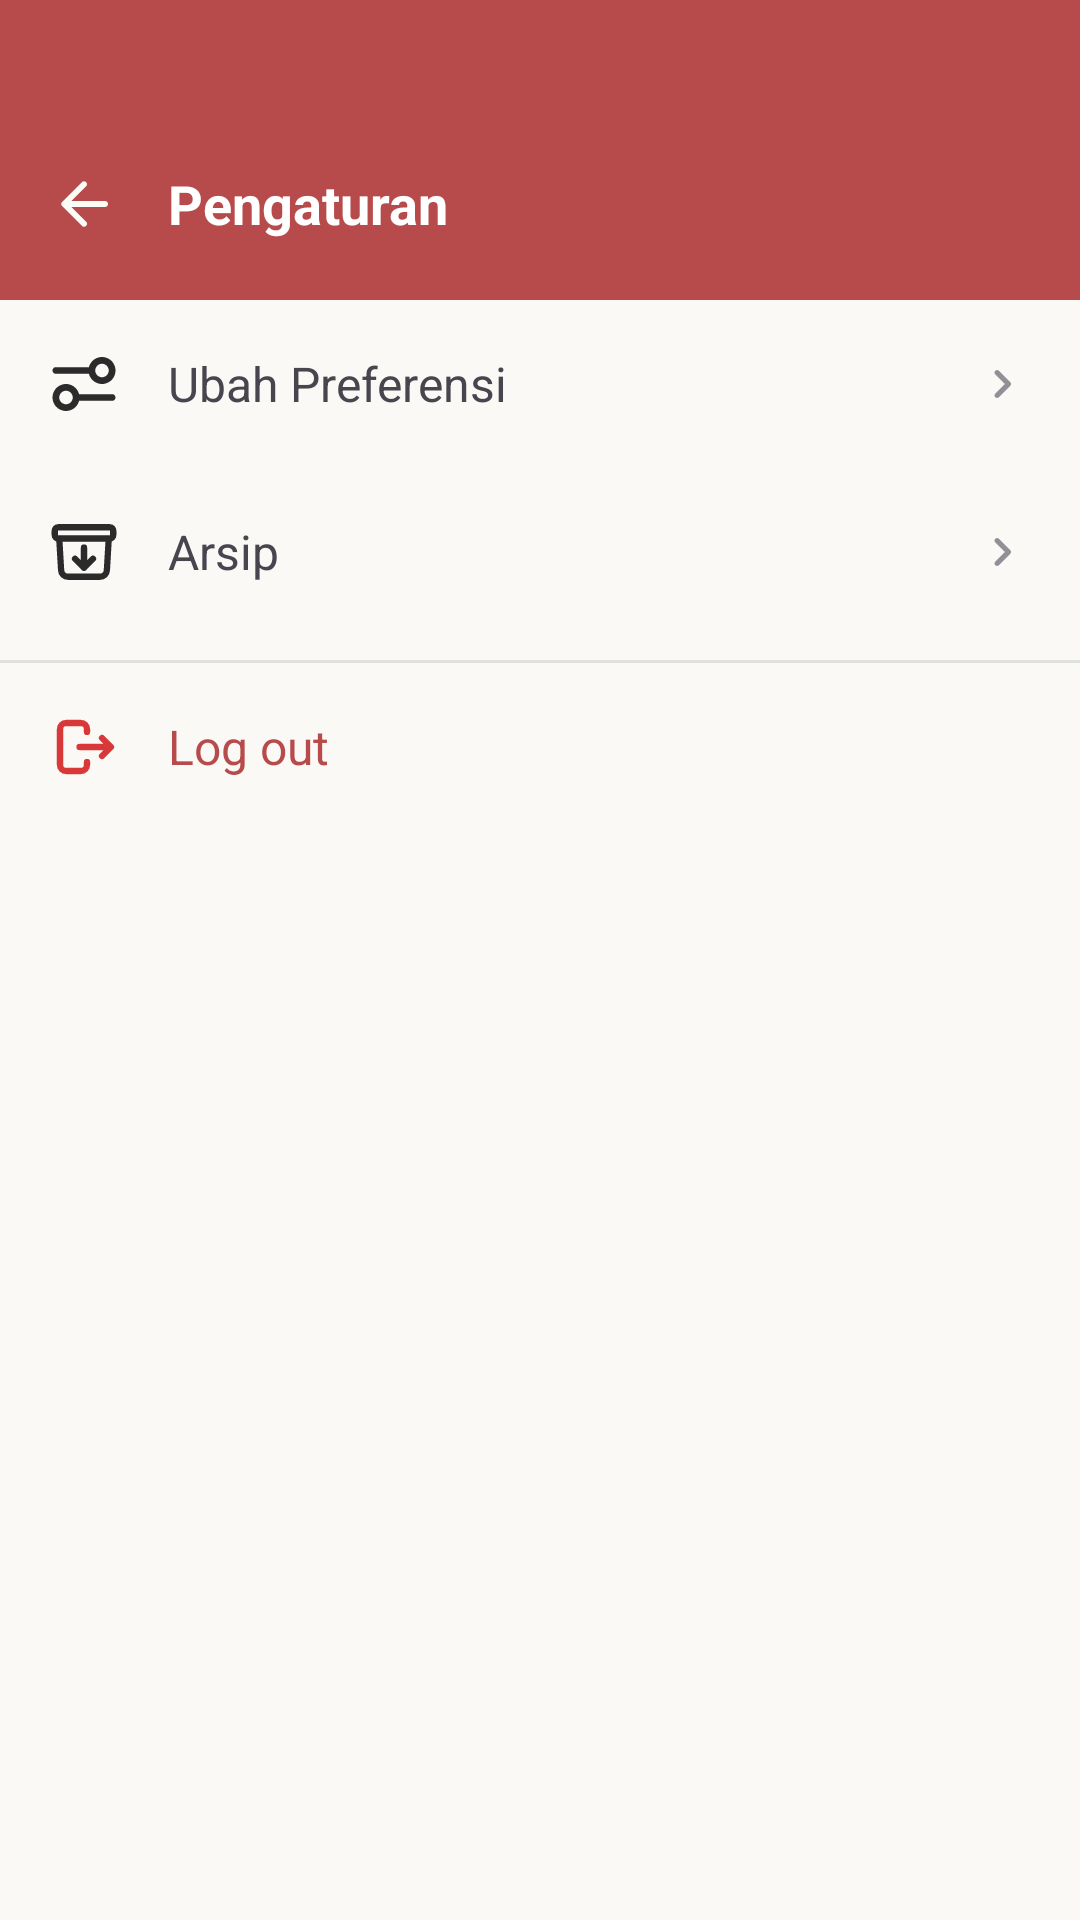

Screen size 1080x1920. Icon name, then its box in pixels as (x1, y1, x2, y2):
archive: (51, 524, 117, 580)
Back: (61, 181, 108, 227)
chevron right: (994, 370, 1011, 398), (994, 538, 1011, 566)
